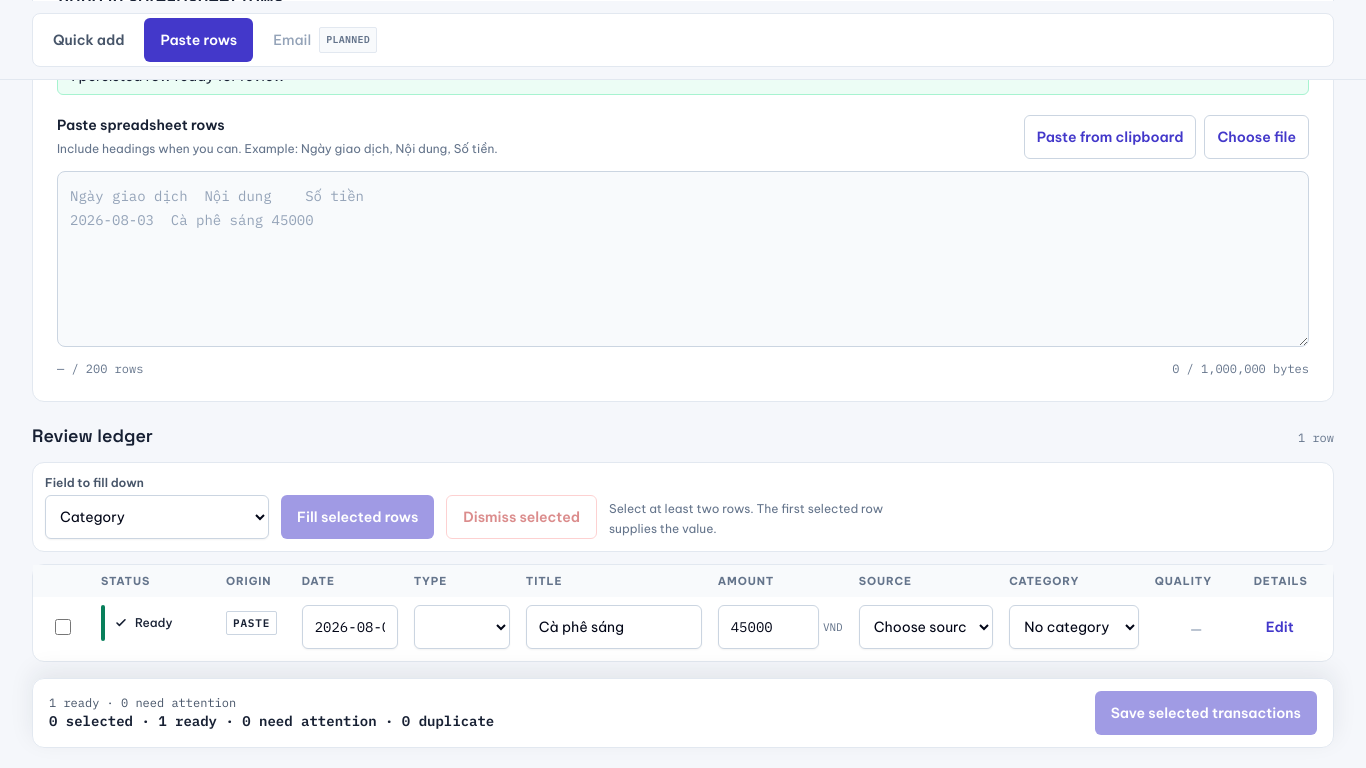
spreadsheet transaction capture › keeps import blocked when a delayed selected-row patch fails
(page scrolled)
Click the checkbox named "Select row 1".
click(63, 627)  # box [55,619,71,635]
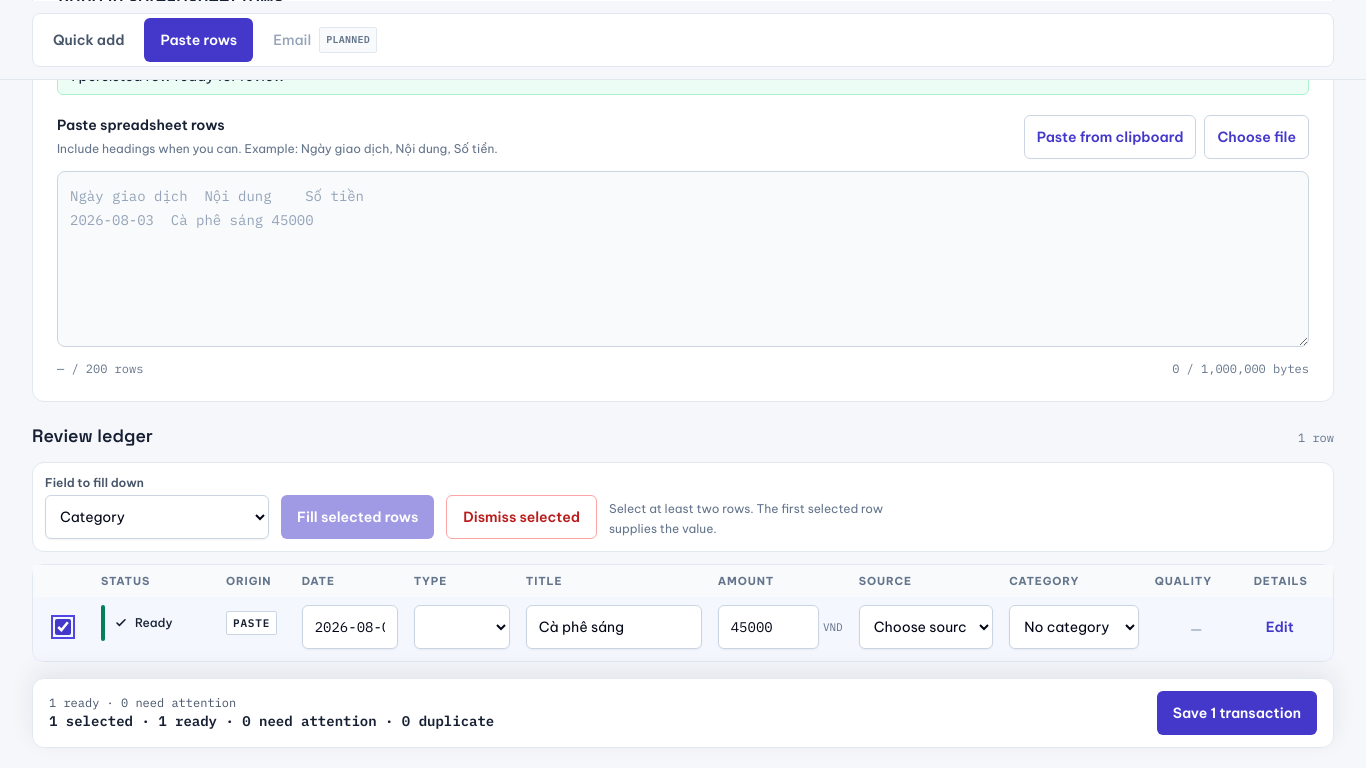
Replace the text in the field named "Row 1 amount" with "55.00" at [768, 627], box [718,605,819,649]
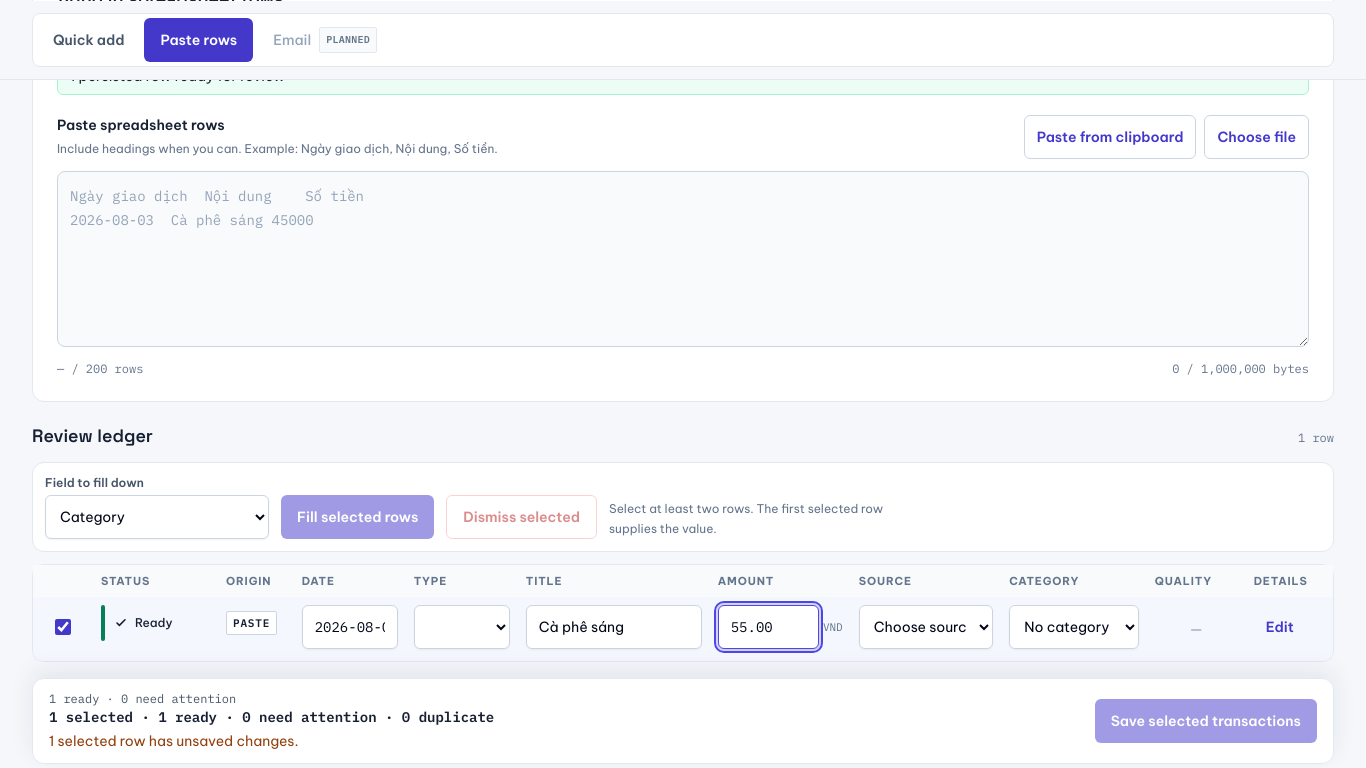
Press Tab
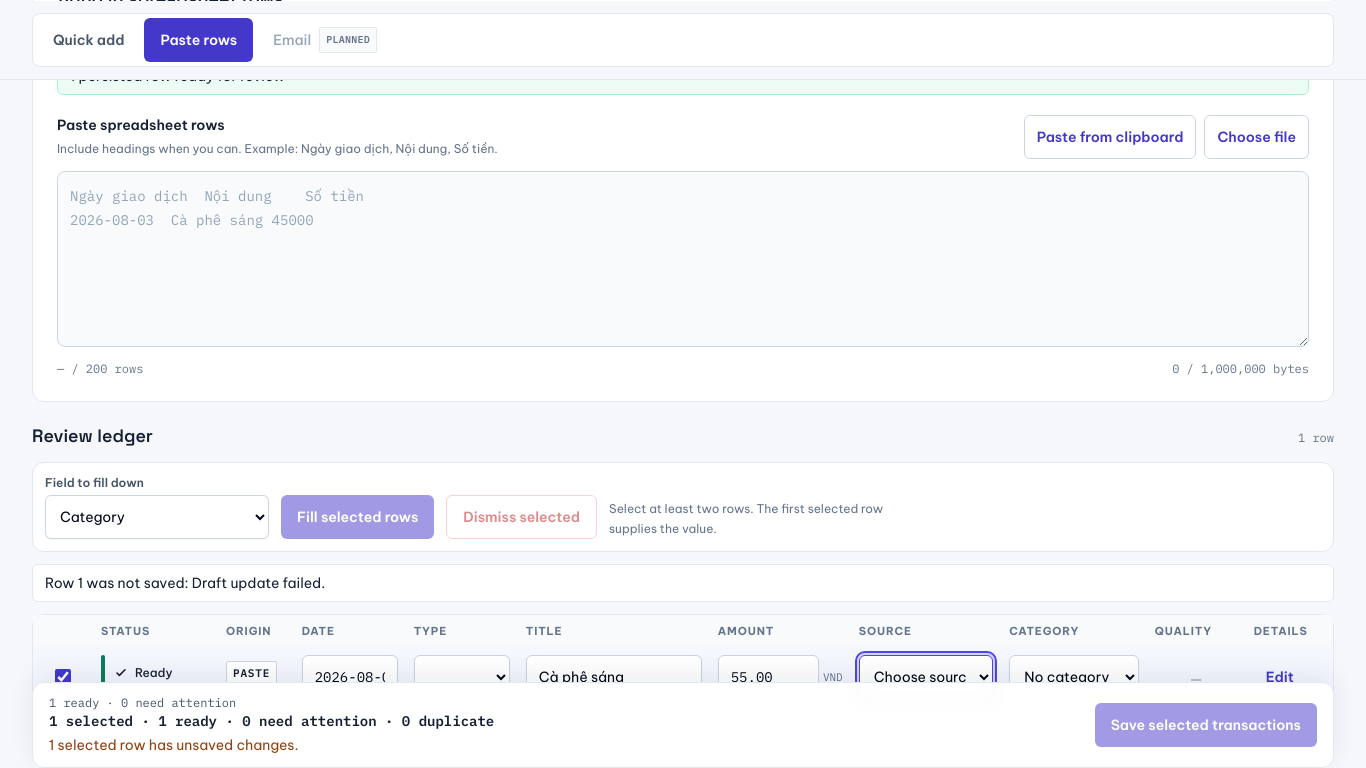
Check: the text "1 selected row has unsaved changes." is shown, box [49,736,298,754]
Check: the text "Row 1 was not saved: Draft update failed." is shown, box [32,564,1334,602]
